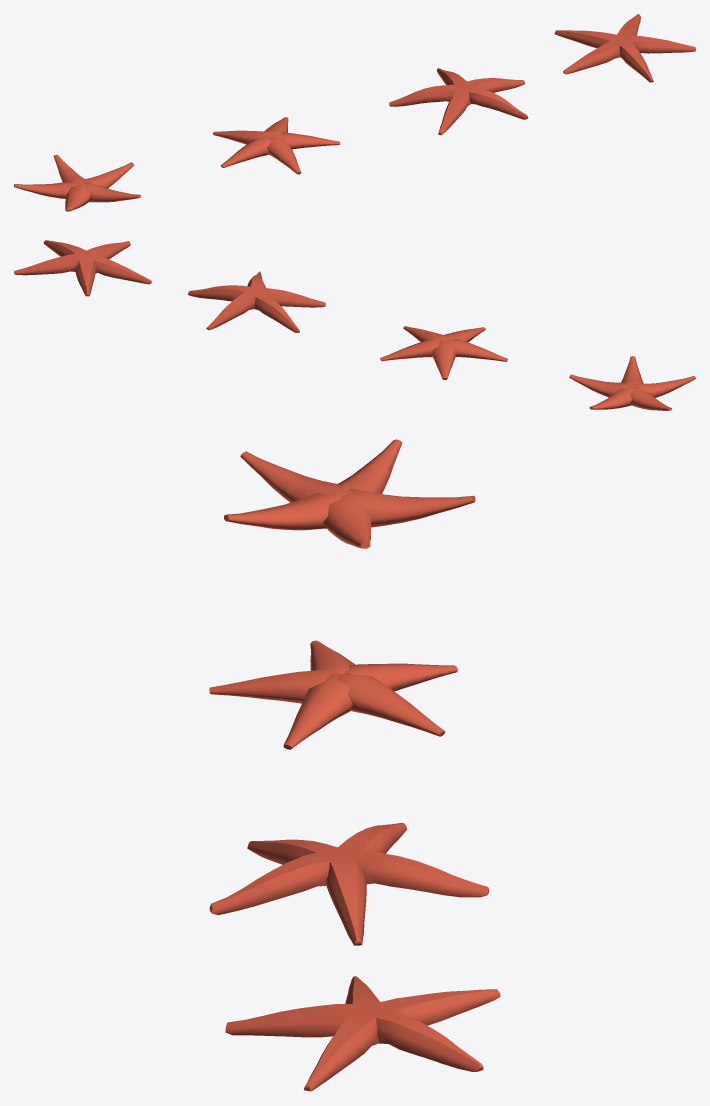
Rendered from coral_starfishes_ABCD.fbx.
3 renders of one model, top to bottom at view 1: azimuth 30°, elevation 25°; view 2: azimuth 150°, elevation 25°; view 3: azimuth 270°, elevation 25°, orthographic. The views are drawn at different scales.
Visible parts, largest first — view 1: coral_starfish_A, coral_starfish_B, coral_starfish_C, coral_starfish_D; view 2: coral_starfish_B, coral_starfish_A, coral_starfish_D, coral_starfish_C; view 3: coral_starfish_B, coral_starfish_A, coral_starfish_D, coral_starfish_C.
Boxes of the visible parts, box(x1,y1,x2,y2) form: coral_starfish_A: box(554, 14, 695, 82); coral_starfish_B: box(389, 68, 528, 135); coral_starfish_C: box(213, 117, 340, 174); coral_starfish_D: box(14, 154, 140, 211); coral_starfish_B: box(188, 271, 325, 332); coral_starfish_A: box(14, 240, 151, 296); coral_starfish_D: box(569, 356, 695, 410); coral_starfish_C: box(380, 326, 507, 379); coral_starfish_B: box(209, 823, 488, 945); coral_starfish_A: box(225, 976, 500, 1091); coral_starfish_D: box(224, 439, 475, 548); coral_starfish_C: box(209, 640, 457, 749).
Size of the model in its own units: 277 by 9.27 by 53.85.
